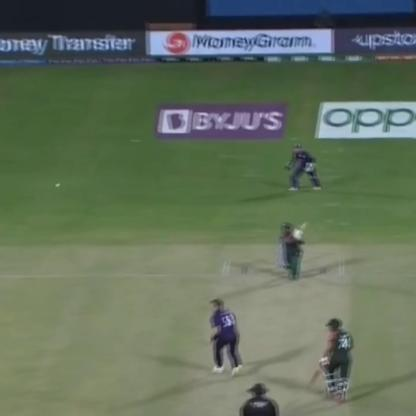ball: (49, 176, 63, 192)
pitch: (209, 242, 354, 416)
